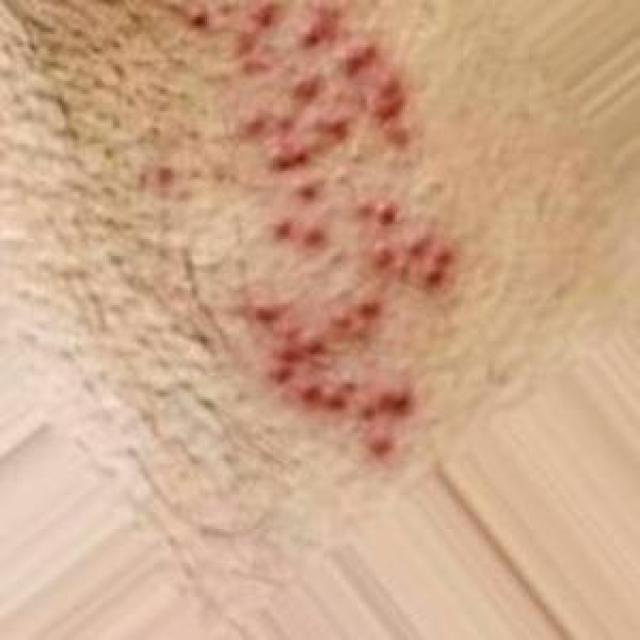Shingles: (162, 0, 460, 464)
